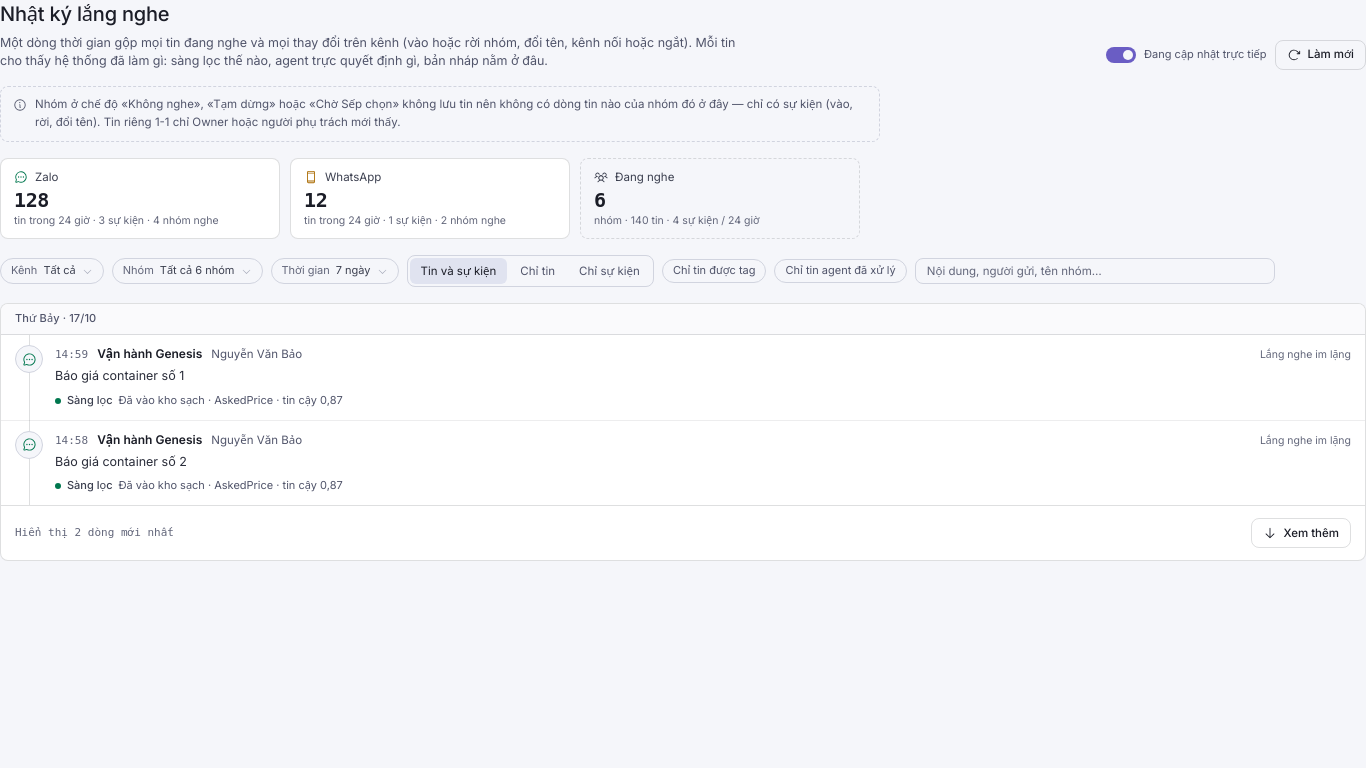
Scenario: vẽ màn › "Xem thêm" nối trang kế bằng con trỏ, hết trang thì báo đã hết
Check: the text "Báo giá container số 1" is shown, box [55,368,184,383]
Check: the text "Báo giá container số 3" is not shown
Click the button "Xem thêm".
click(1301, 533)  # box [1251,518,1351,548]
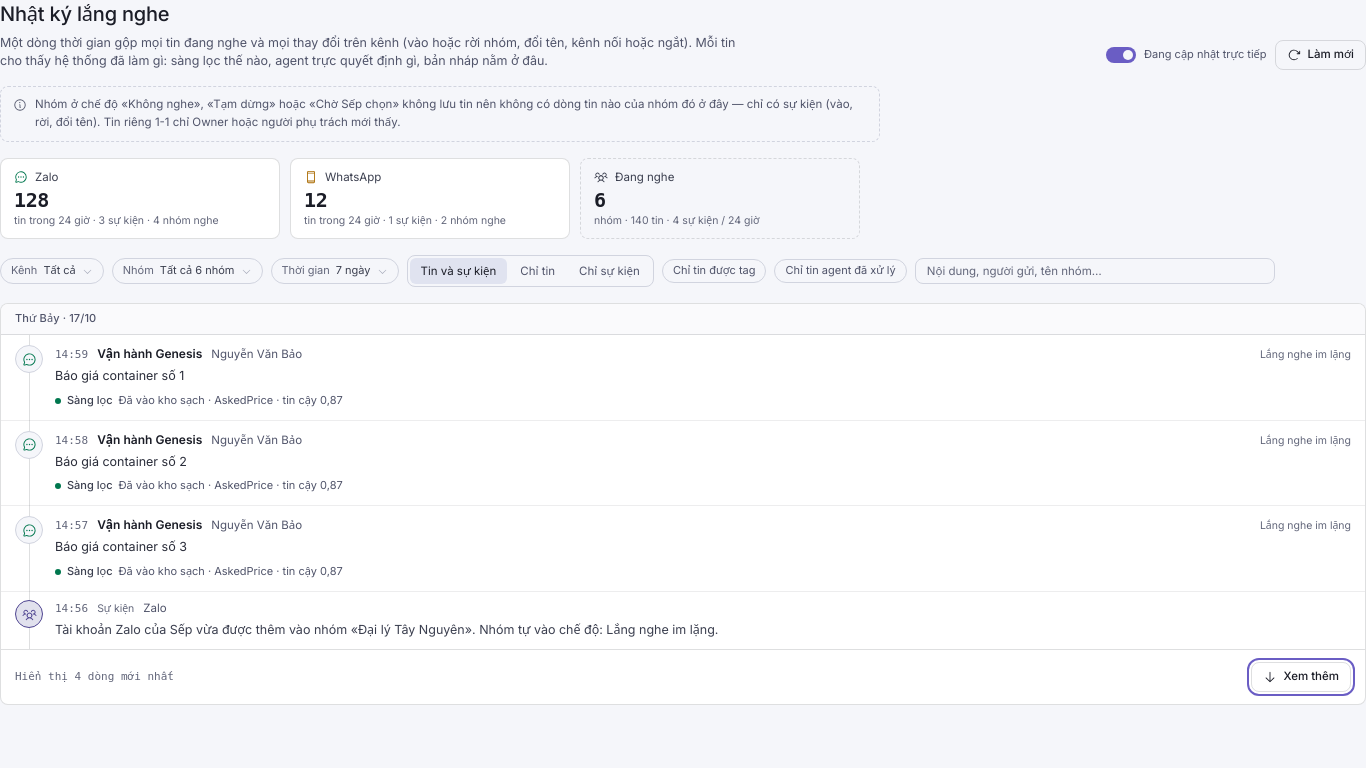
Check: the text "Báo giá container số 3" is shown, box [55,539,187,554]
Click the button "Xem thêm".
click(1301, 677)  # box [1251,662,1351,692]
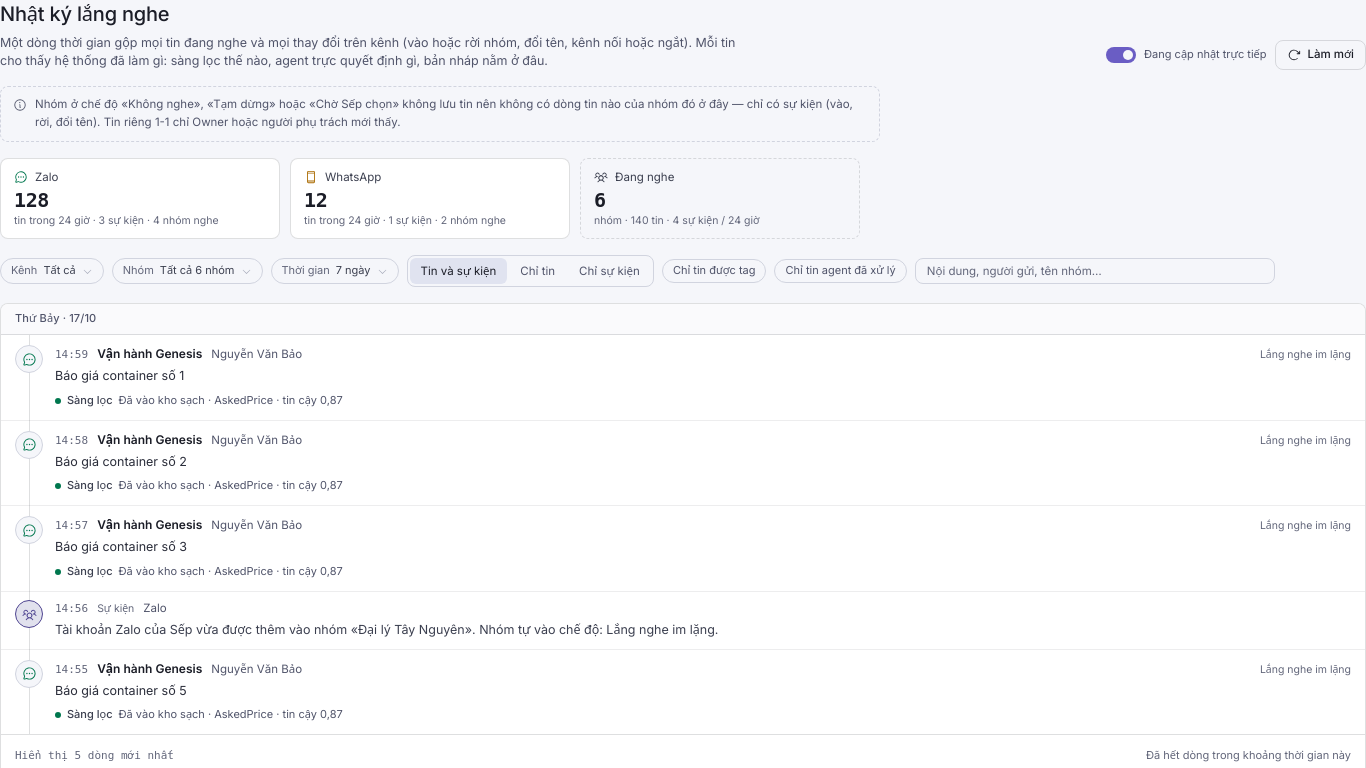
Check: the text "Báo giá container số 5" is shown, box [55,683,187,698]
Check: the button "Xem thêm" is gone
Check: the text "Đã hết dòng trong khoảng thời gian này" is shown, box [1146,747,1351,764]
